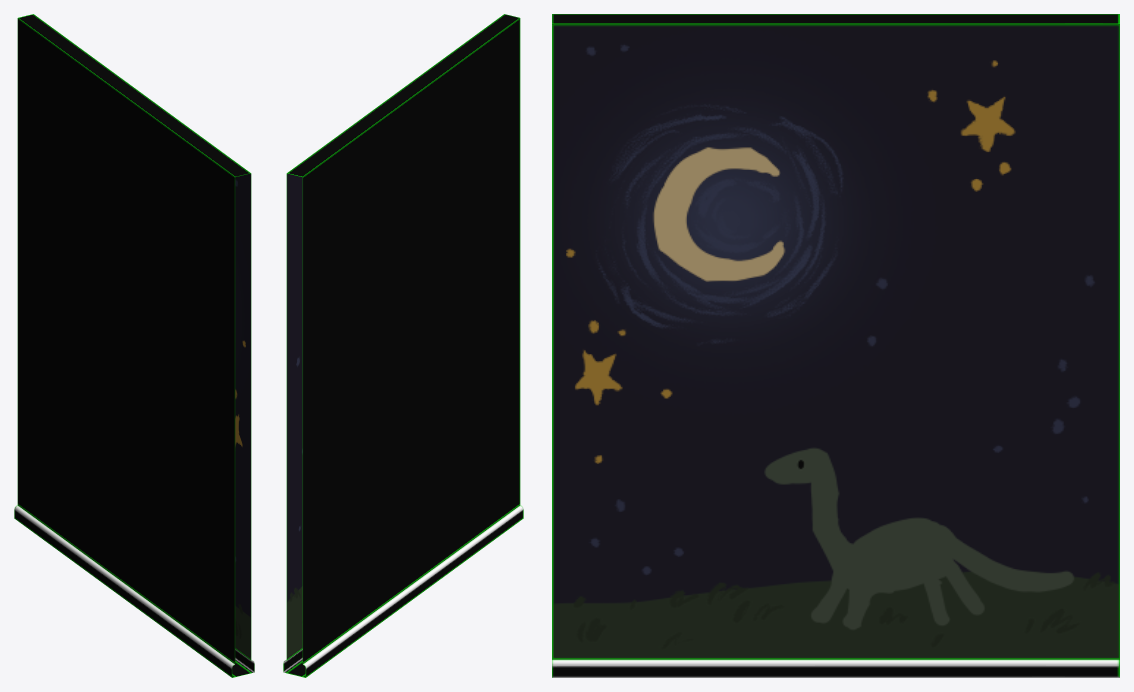
The model's file is SM_3wall DINO.fbx.
3 views of the same model, side by side, from view 1: azimuth 30°, elevation 25°; view 2: azimuth 150°, elevation 25°; view 3: azimuth 270°, elevation 25° (orthographic). The views are drawn at different scales.
Visible parts, largest first — view 1: SM_3Wall; view 2: SM_3Wall; view 3: SM_3Wall.
Boxes of the visible parts, <box> form: SM_3Wall: <box>14,14,254,677</box>; SM_3Wall: <box>283,14,523,677</box>; SM_3Wall: <box>552,14,1119,677</box>.
Bounding box in the file's own units: 0.2756 × 4.66 × 5.91.
Materials: 1 (1 with a texture image).
